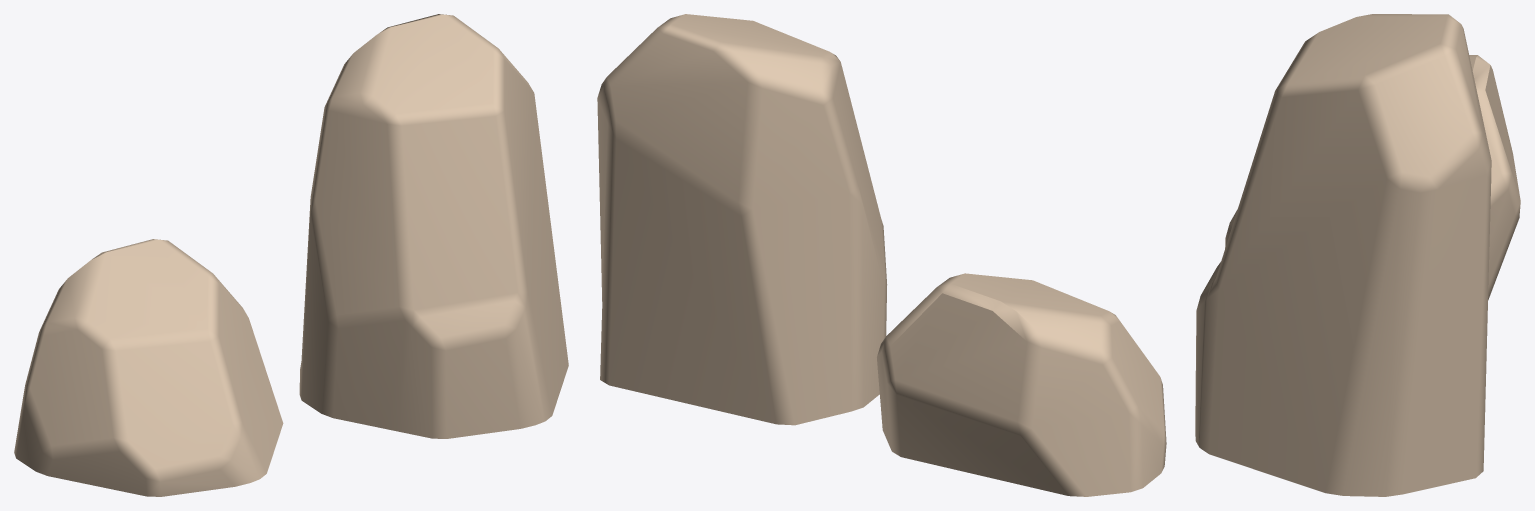
The model's file is Rock.fbx.
The picture shows the model from 3 angles, left to right: view 1: azimuth 30°, elevation 25°; view 2: azimuth 150°, elevation 25°; view 3: azimuth 270°, elevation 25°; orthographic projection. The views are drawn at different scales.
Parts seen in each view (by area): view 1: RockBig, RockSmall; view 2: RockBig, RockSmall; view 3: RockBig, RockSmall.
Part boxes in pixels (left/top/right/bottom): RockBig: left=299, top=14, right=568, bottom=438; RockSmall: left=14, top=239, right=283, bottom=496; RockBig: left=597, top=14, right=887, bottom=425; RockSmall: left=877, top=273, right=1166, bottom=496; RockBig: left=1195, top=14, right=1491, bottom=496; RockSmall: left=1225, top=55, right=1520, bottom=300.
Bounding box in the file's own units: 149 × 92.11 × 67.21.
